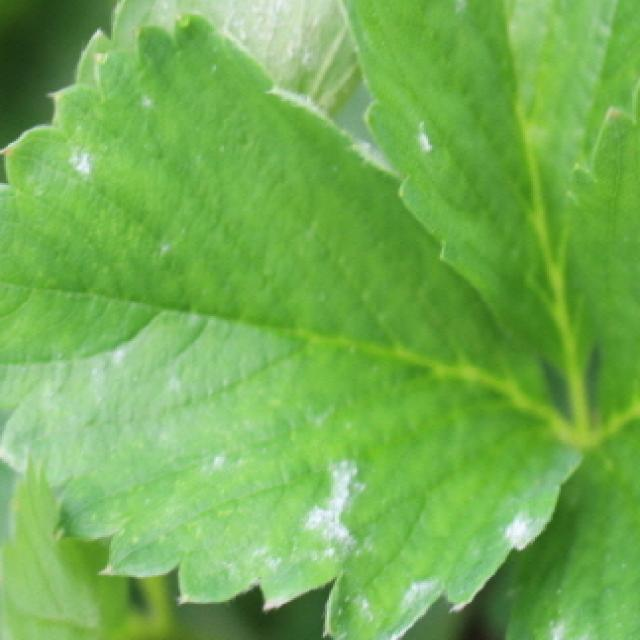Powdery Mildew Leaf: (0, 10, 591, 640), (337, 0, 640, 404), (479, 77, 640, 640)
